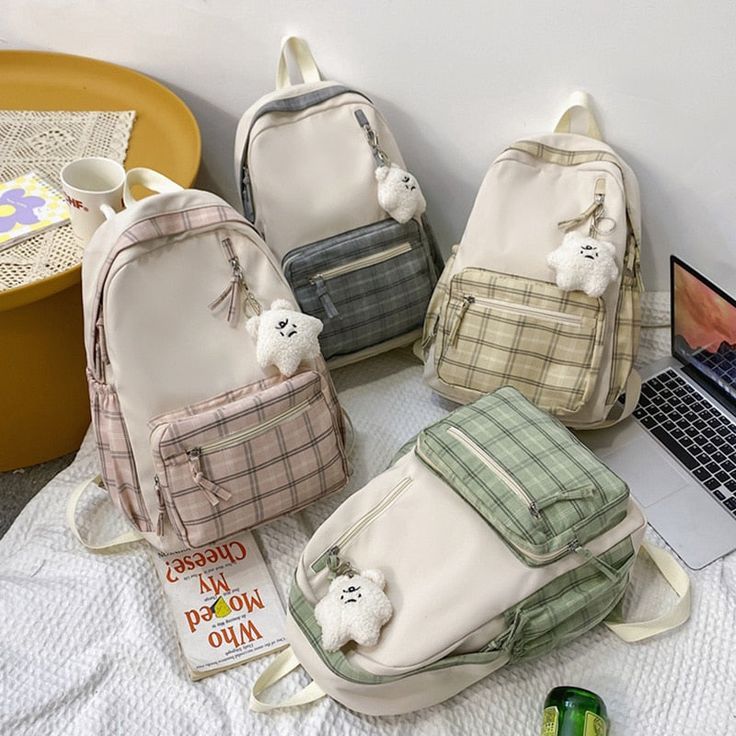nylon: (68, 35, 692, 716)
